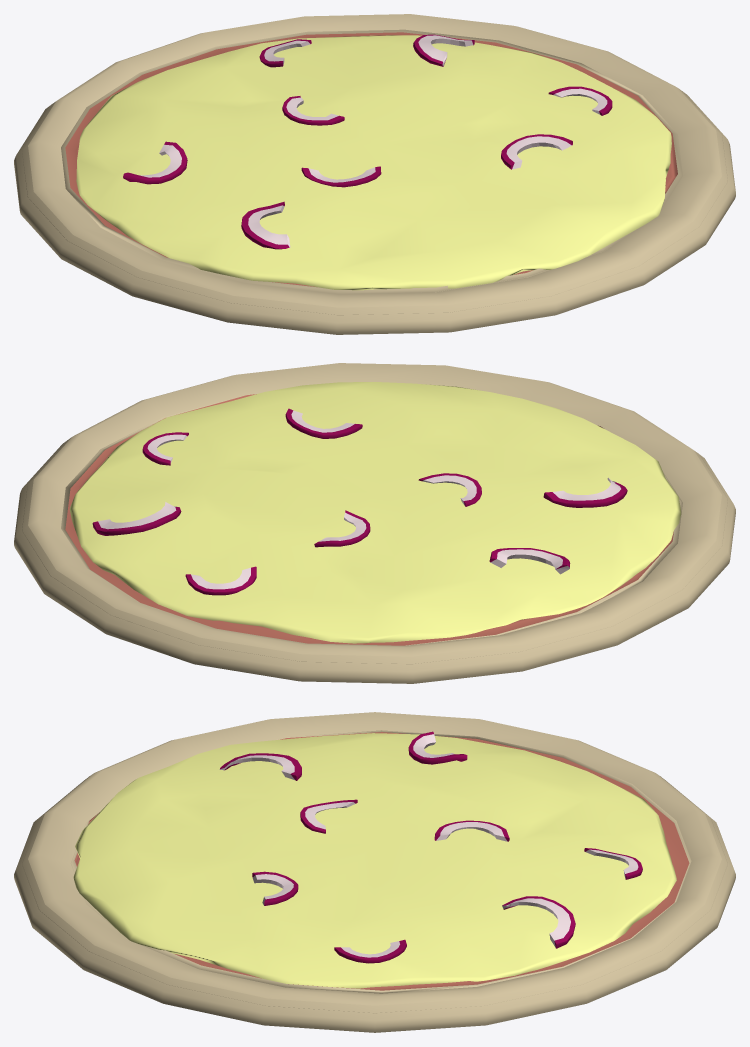
Rendered from thin_onion.gltf.
3 renders of one model, top to bottom at view 1: azimuth 30°, elevation 25°; view 2: azimuth 150°, elevation 25°; view 3: azimuth 270°, elevation 25°, orthographic.
Parts seen in each view (by area): view 1: pCylinder13, pCylinder1.thin, polySurface210, polySurface209, polySurface214, polySurface215, polySurface211, polySurface213, polySurface212, polySurface208; view 2: pCylinder13, pCylinder1.thin, polySurface215, polySurface210, polySurface214, polySurface208, polySurface209, polySurface211, polySurface213, polySurface212; view 3: pCylinder13, pCylinder1.thin, polySurface215, polySurface214, polySurface210, polySurface209, polySurface211, polySurface212, polySurface213, polySurface208.
Part boxes in pixels (x1,y1,x2,y2): pCylinder13: (76,35,671,290); pCylinder1.thin: (14,14,735,334); polySurface210: (241,201,290,249); polySurface209: (501,134,572,169); polySurface214: (123,141,187,184); polySurface215: (413,34,474,66); polySurface211: (282,96,344,125); polySurface213: (301,166,381,187); polySurface212: (548,86,612,115); polySurface208: (259,39,311,67); pCylinder13: (69,382,681,643); pCylinder1.thin: (14,363,735,683); polySurface215: (92,502,181,535); polySurface210: (543,477,627,507); polySurface214: (489,548,570,574); polySurface208: (185,566,256,595); polySurface209: (285,408,362,438); polySurface211: (314,510,370,547); polySurface213: (418,473,481,506); polySurface212: (142,432,188,465); pCylinder13: (73,733,676,988); pCylinder1.thin: (14,712,735,1032); polySurface215: (502,896,575,948); polySurface214: (408,731,467,764); polySurface210: (219,753,301,780); polySurface209: (252,871,298,905); polySurface211: (434,820,509,841); polySurface212: (334,939,406,963); polySurface213: (300,799,357,833); polySurface208: (584,848,642,879).
Bounding box in the file's own units: 0.0974 × 0.00725 × 0.0974.
